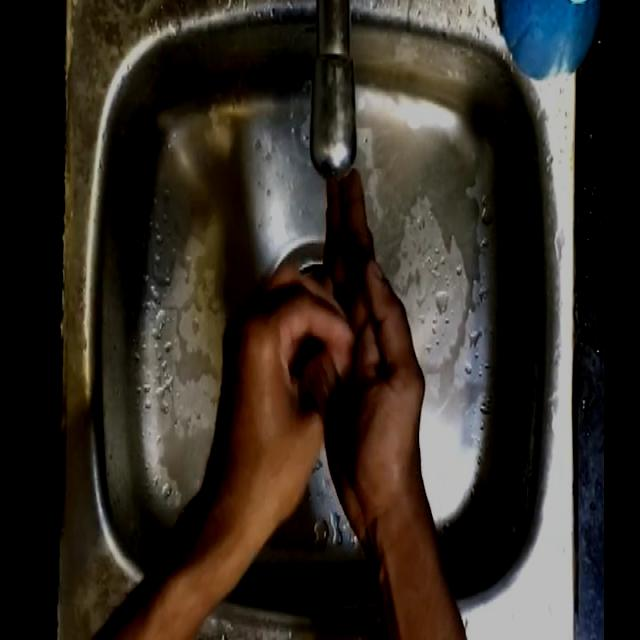step_6: (216, 142, 437, 548)
